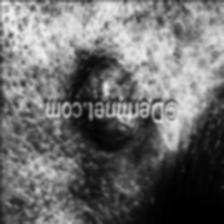Potentially Malignant Skin Tumors: (70, 118, 140, 162)
